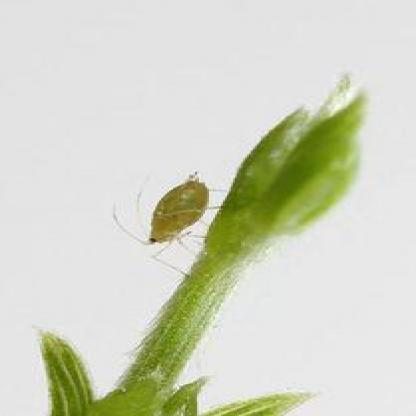aphid: (113, 167, 237, 278)
